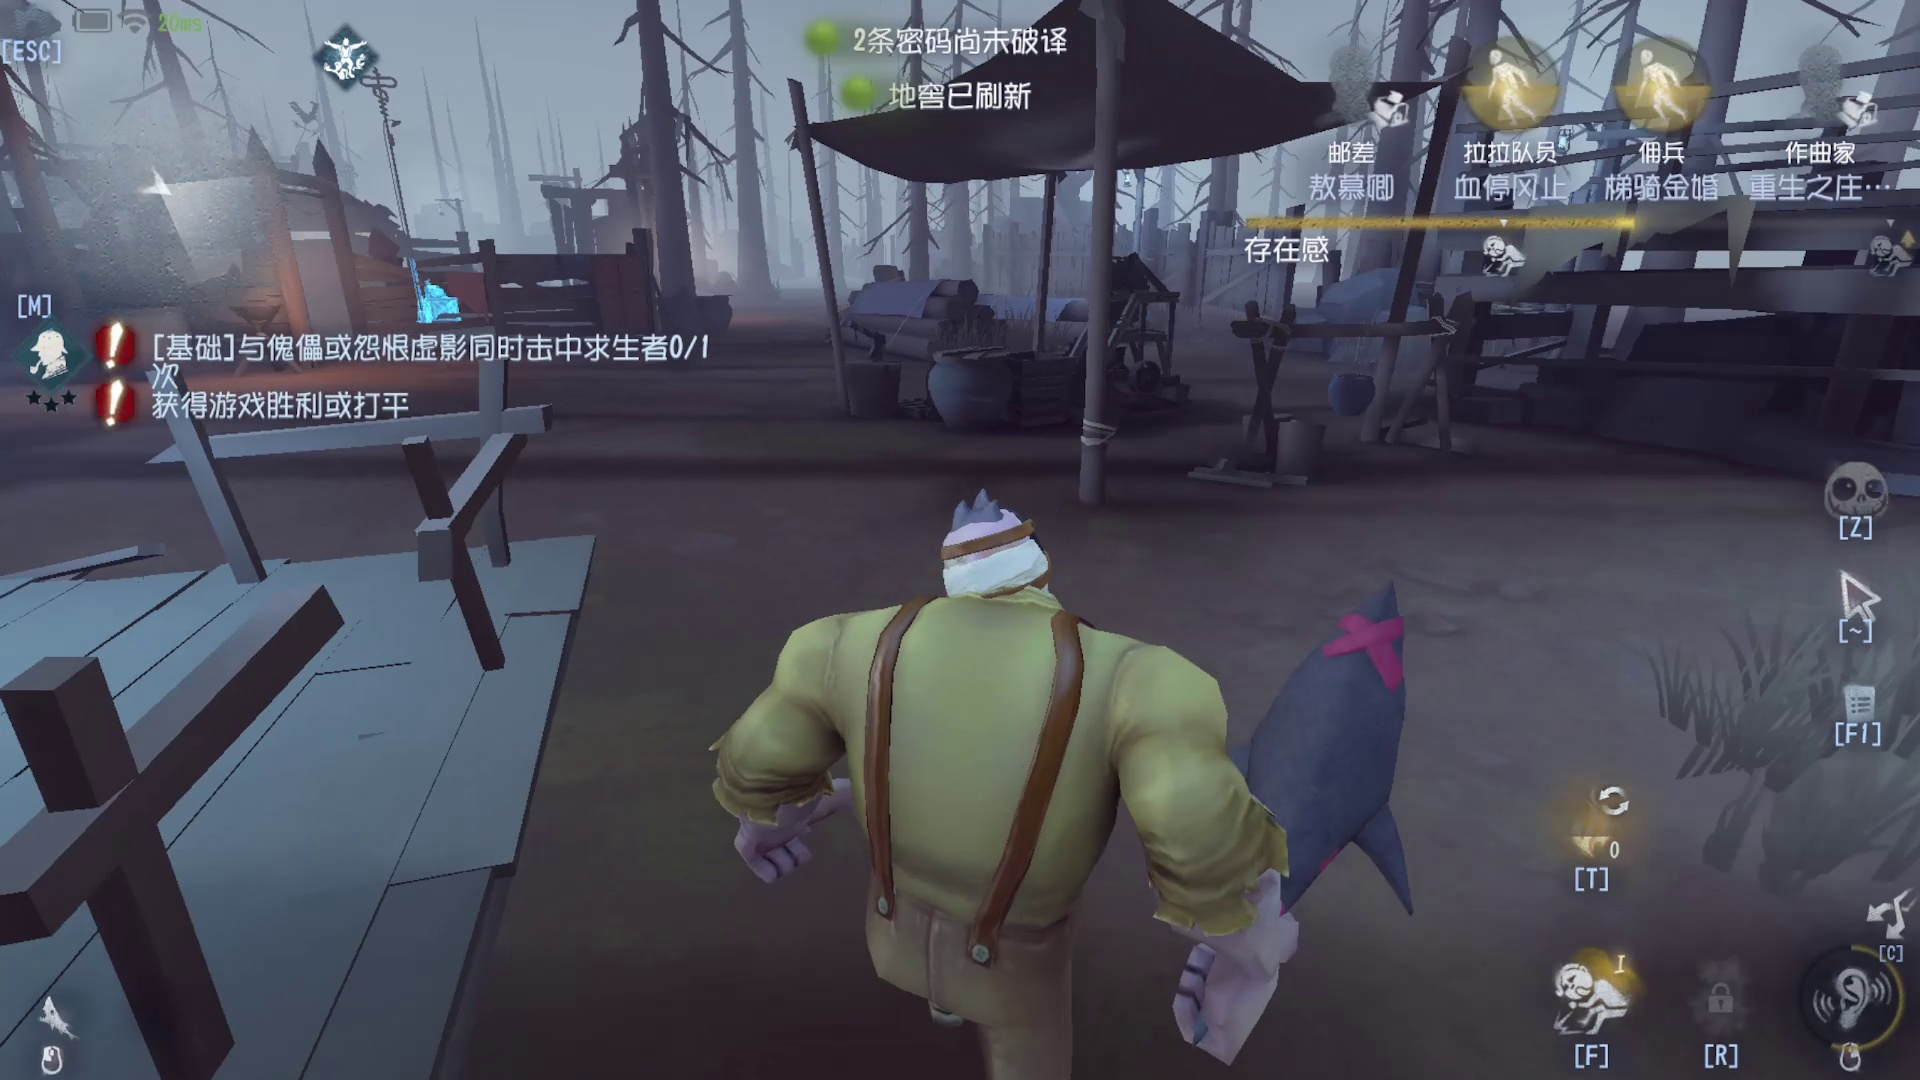密码机: (342, 61, 491, 340)
